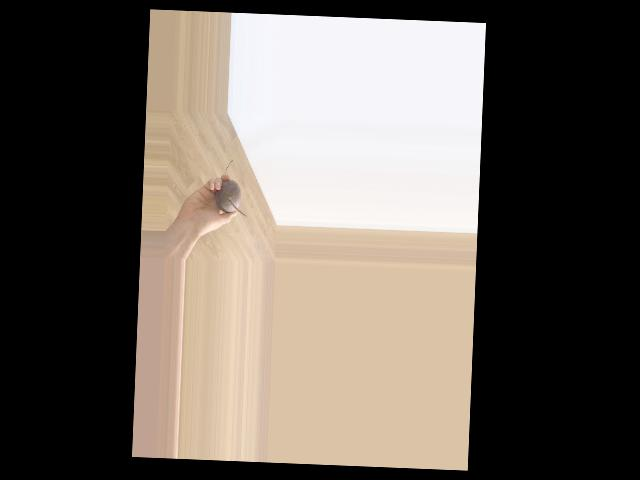beet: (214, 158, 248, 216)
